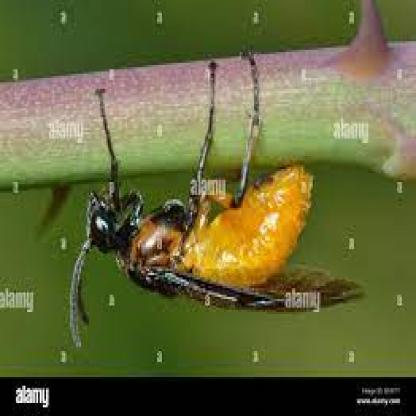sawfly: (68, 60, 364, 346)
